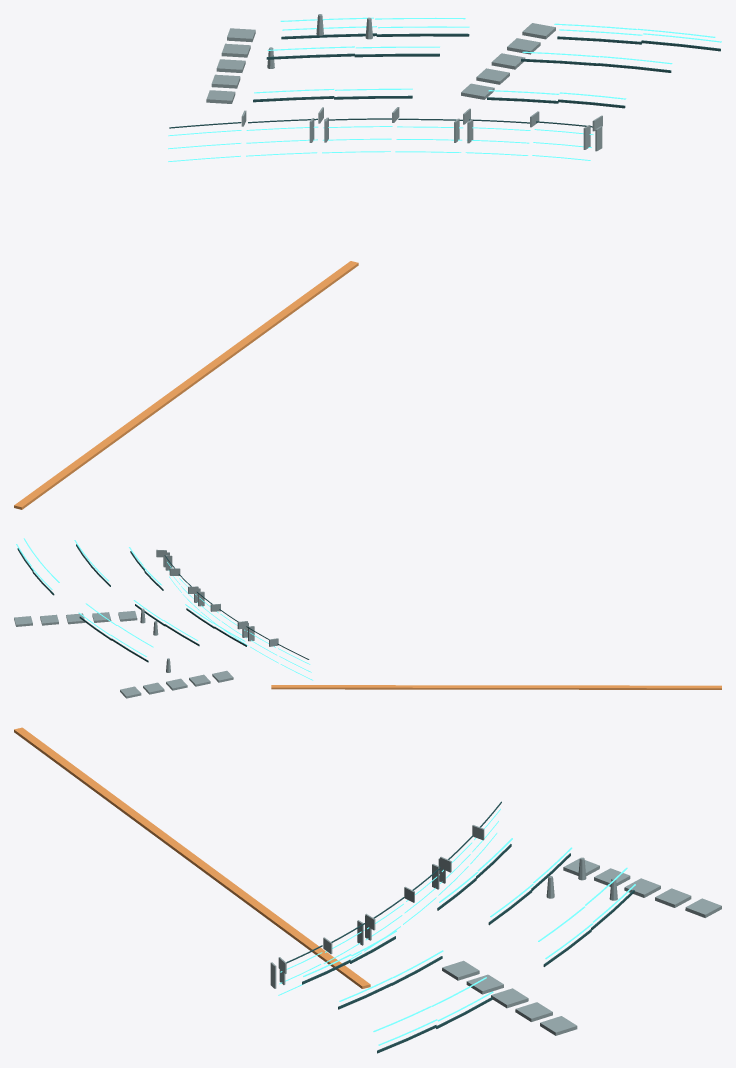
Rendered from Weather_Lung_Sector_01_Dressing.glb.
The picture shows the model from 3 angles, top to bottom: view 1: azimuth 30°, elevation 25°; view 2: azimuth 150°, elevation 25°; view 3: azimuth 270°, elevation 25°; orthographic projection. The views are drawn at different scales.
Visible parts, largest first — view 1: Weather_Lung_Sector_01_Dressing; view 2: Weather_Lung_Sector_01_Dressing; view 3: Weather_Lung_Sector_01_Dressing.
Boxes of the visible parts, x1,y1,x2,y2 form: Weather_Lung_Sector_01_Dressing: (14,14,721,509); Weather_Lung_Sector_01_Dressing: (14,538,721,698); Weather_Lung_Sector_01_Dressing: (14,727,721,1053).
Size of the model in its own units: 9827 by 1682 by 6555.
